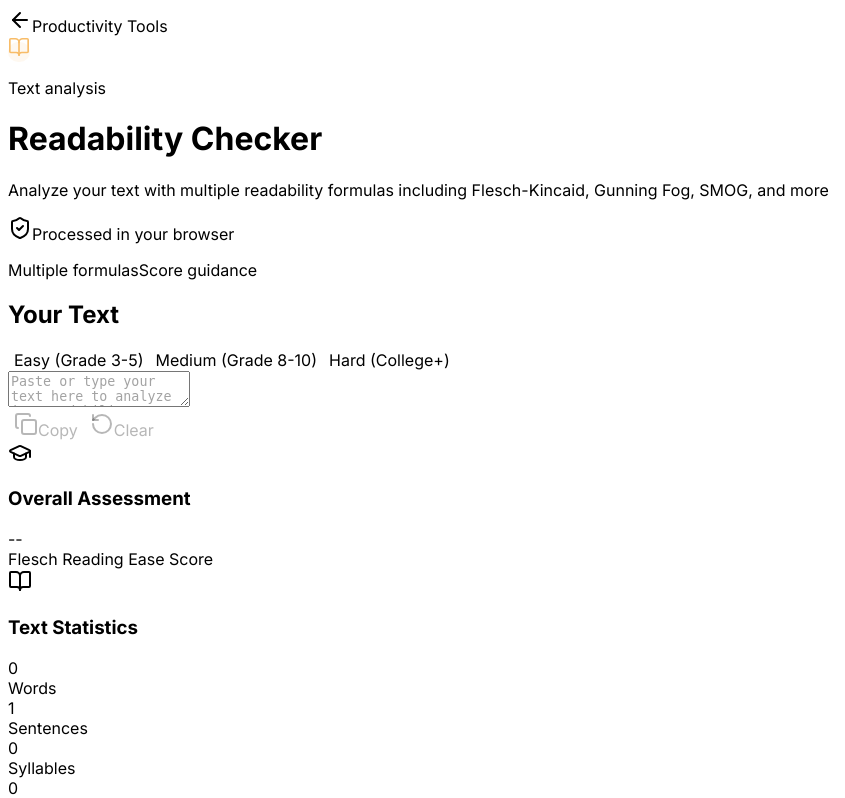
Test case: ReadabilityCheckerPage › Sample Text Loading › loads easy sample text when Easy button is clicked
Click the button "Easy (Grade 3-5)".
click(79, 360)  # box [8,349,150,371]
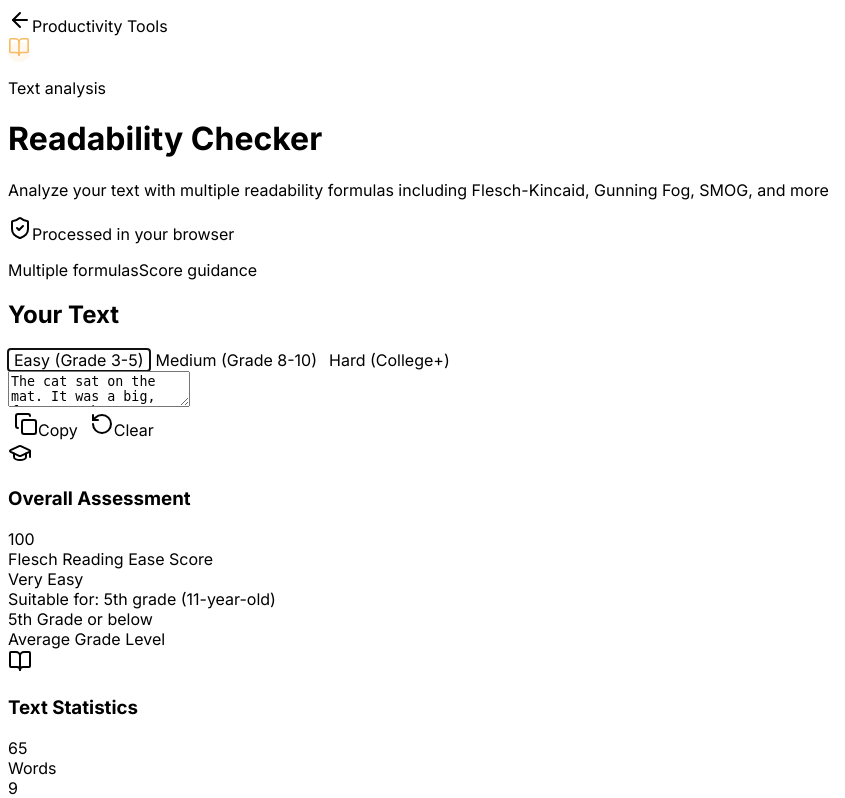
Expected: the text box with placeholder "Paste or type your text here to analyze its readability..." holds "The cat sat on the mat. It was a big, fat cat. The cat liked to nap in the sun. One day, a small dog came by. The dog wanted to play. But the cat just yawned an", [8,371,190,407]
